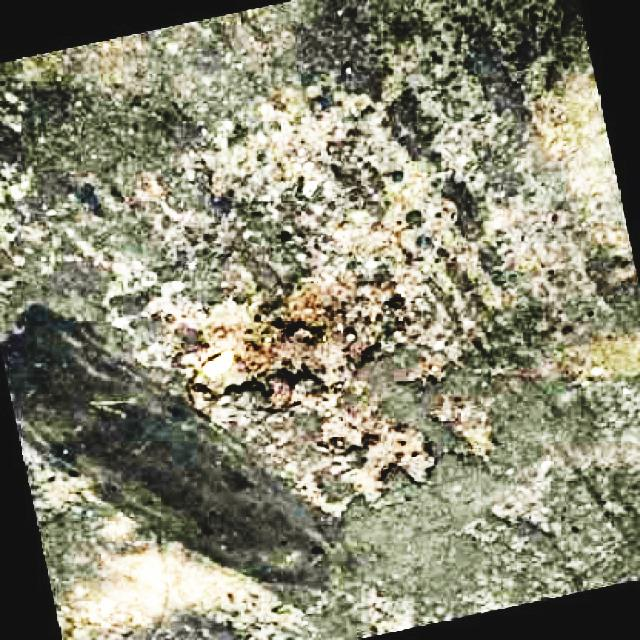pothole: (178, 273, 371, 402), (309, 411, 442, 518)
